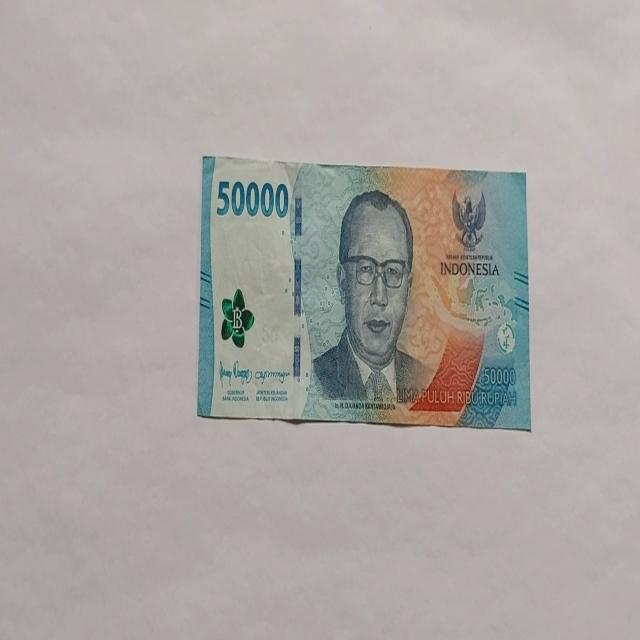lima puluh ribu rupiah: (197, 154, 530, 430), (302, 188, 436, 418)
